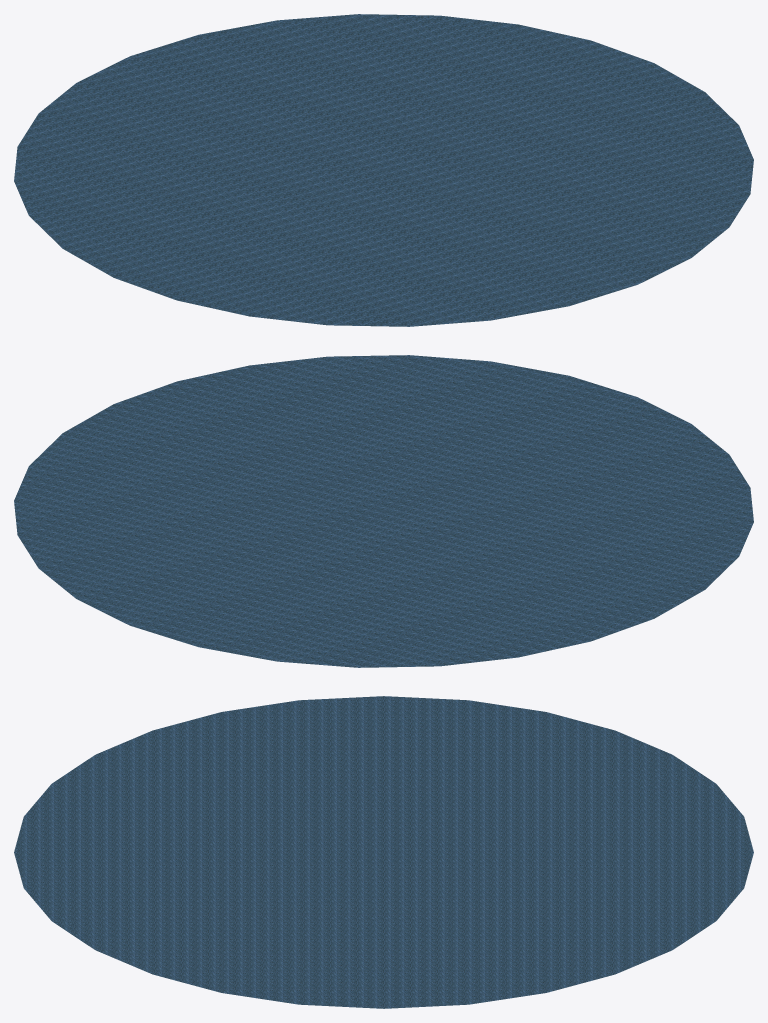
File: TRANS_UDC_sea.obj
3 views of the same model, one above another, from view 1: azimuth 30°, elevation 25°; view 2: azimuth 150°, elevation 25°; view 3: azimuth 270°, elevation 25° (orthographic).
Visible parts, largest first — view 1: UDC_sea; view 2: UDC_sea; view 3: UDC_sea.
Boxes of the visible parts, x1=… form: UDC_sea: x1=14, y1=14, x2=753, y2=326; UDC_sea: x1=14, y1=355, x2=753, y2=667; UDC_sea: x1=14, y1=696, x2=753, y2=1008.
Bounding box in the file's own units: 4403 × 0 × 4403.
